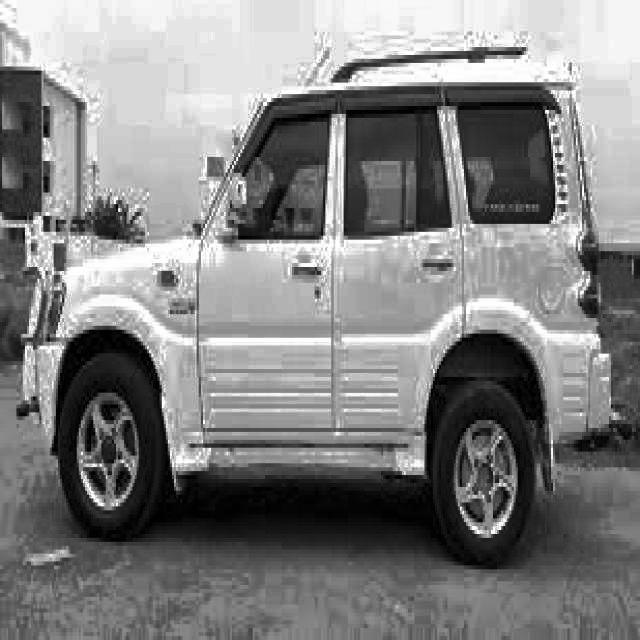Car: (31, 52, 611, 556)
